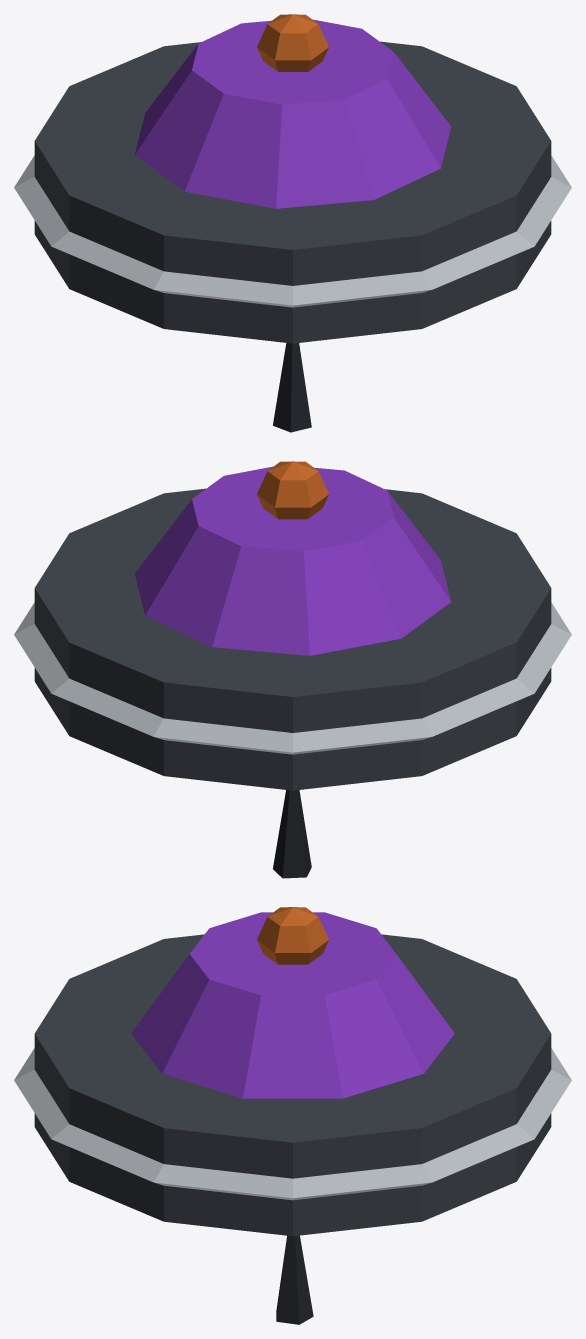
Rendered from mine-panic.glb.
The picture shows the model from 3 angles, top to bottom: view 1: azimuth 30°, elevation 25°; view 2: azimuth 150°, elevation 25°; view 3: azimuth 270°, elevation 25°; orthographic projection.
Parts seen in each view (by area): view 1: m; view 2: m; view 3: m.
Part boxes in pixels (<box>): m: <box>14,14,571,432</box>; m: <box>14,461,571,878</box>; m: <box>14,907,571,1324</box>.
Bounding box in the file's own units: 0.1 × 0.0611 × 0.1.
